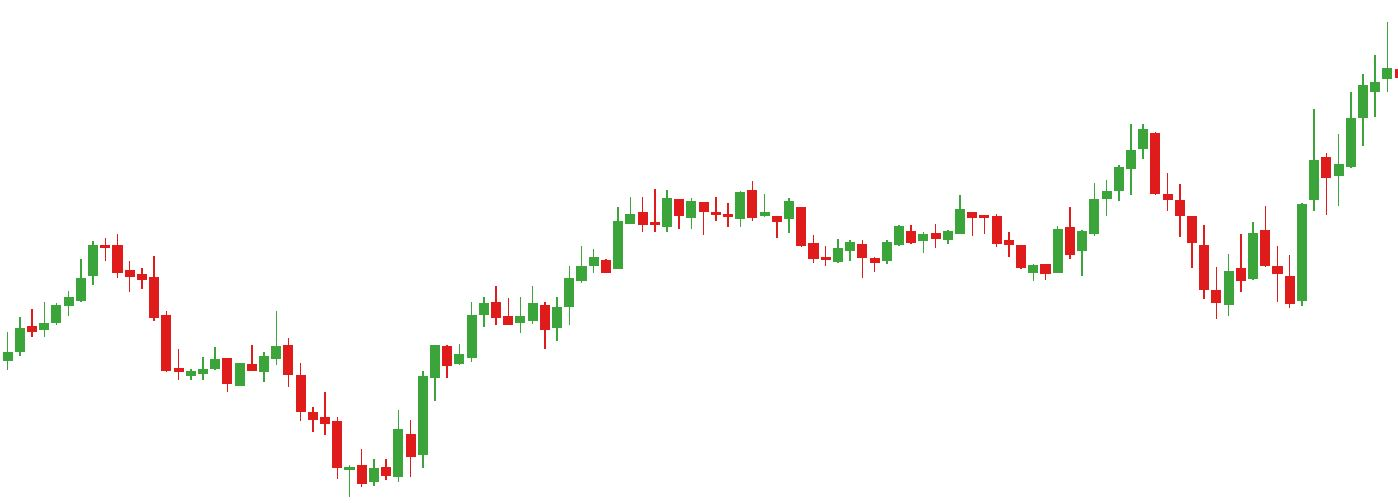buy: (1031, 200, 1237, 326)
